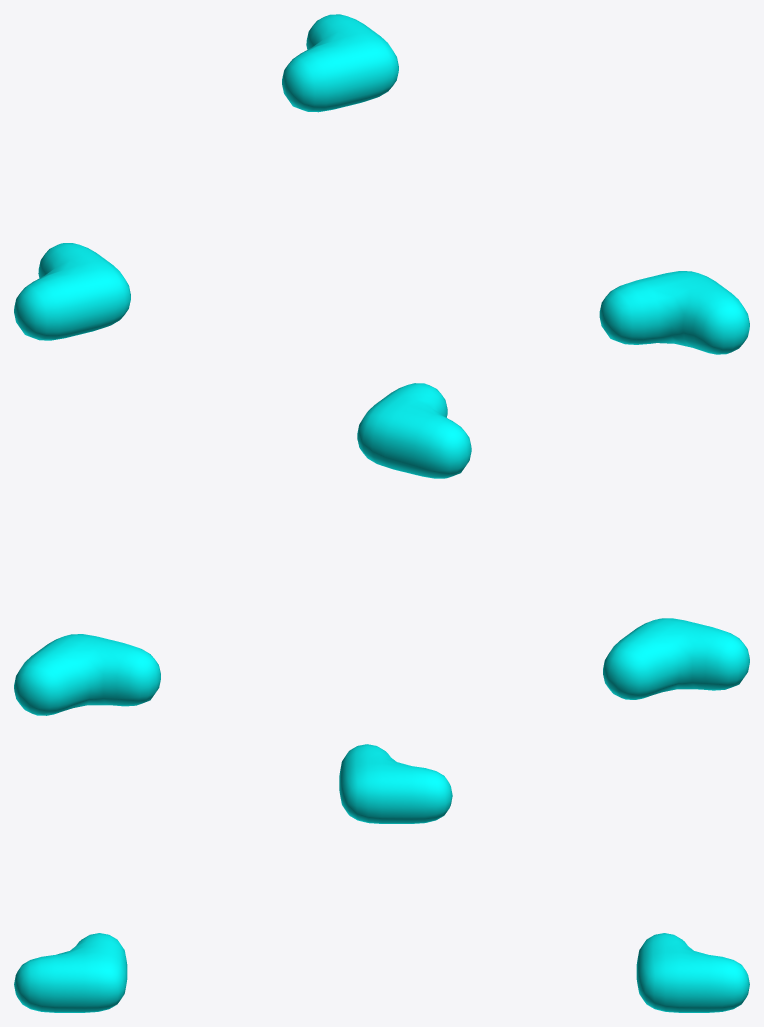
Rendered from interactive.fbx.
The picture shows the model from 3 angles, top to bottom: view 1: azimuth 30°, elevation 25°; view 2: azimuth 150°, elevation 25°; view 3: azimuth 270°, elevation 25°; orthographic projection. The views are drawn at different scales.
Visible parts, largest first — view 1: pCube45, pCube44, pCube43; view 2: pCube44, pCube43, pCube45; view 3: pCube44, pCube45, pCube43.
Part boxes in pixels (bbox=[...]): pCube45: bbox=[599, 271, 749, 354]; pCube44: bbox=[282, 14, 398, 112]; pCube43: bbox=[14, 243, 130, 340]; pCube44: bbox=[14, 634, 160, 715]; pCube43: bbox=[603, 618, 749, 699]; pCube45: bbox=[357, 383, 471, 478]; pCube44: bbox=[636, 933, 749, 1012]; pCube45: bbox=[14, 933, 127, 1012]; pCube43: bbox=[339, 744, 452, 823].
Size of the model in its own units: 4.71 by 0.48 by 6.19.
